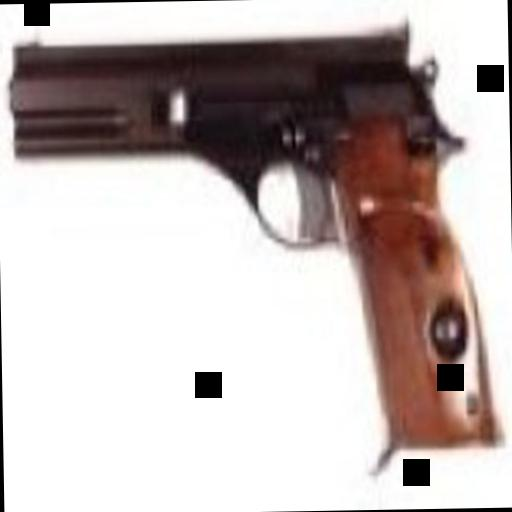Handgun: (4, 33, 494, 459)
